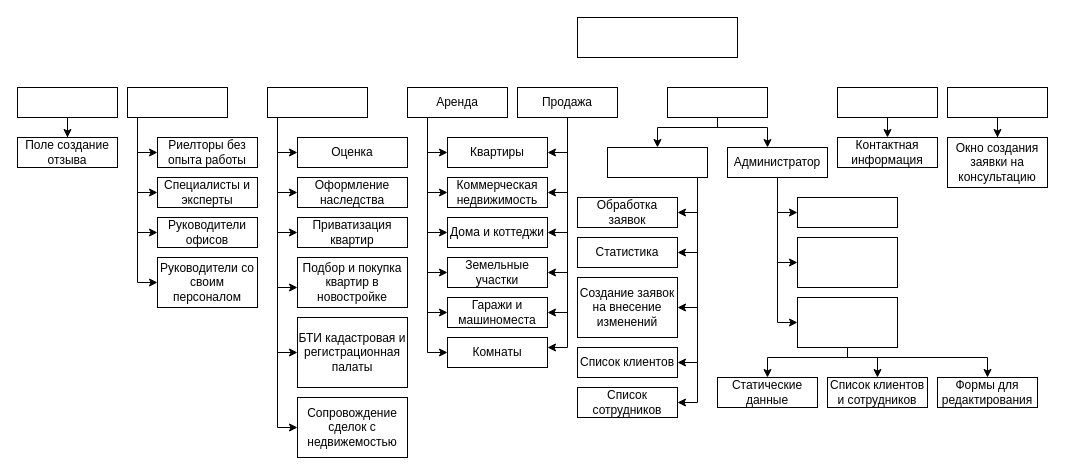
Some shapes in this 1065 by 475 pixel diagram are drawn without their labels. The shapes that lost their labels are listed below. From the top down, each one's centre as x and y in pixels, then its label:
the point at 657,37: Домашняя страница
the point at 67,102: Отзывы
the point at 177,102: Вакансии
the point at 317,102: Услуги и цены
the point at 717,102: Авторизация
the point at 887,102: Контакты
the point at 997,102: Бесплатная консультация
the point at 657,162: Менеджер
the point at 847,212: Доступ ко всем страницам
the point at 847,262: Обработка заявок менеджера
the point at 847,322: Вкладка администратора
